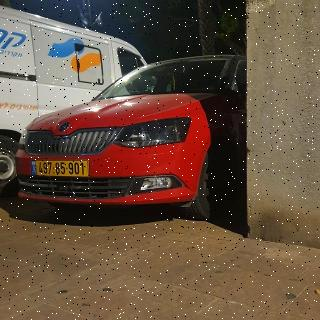LicensePlate: (37, 161, 88, 175)
